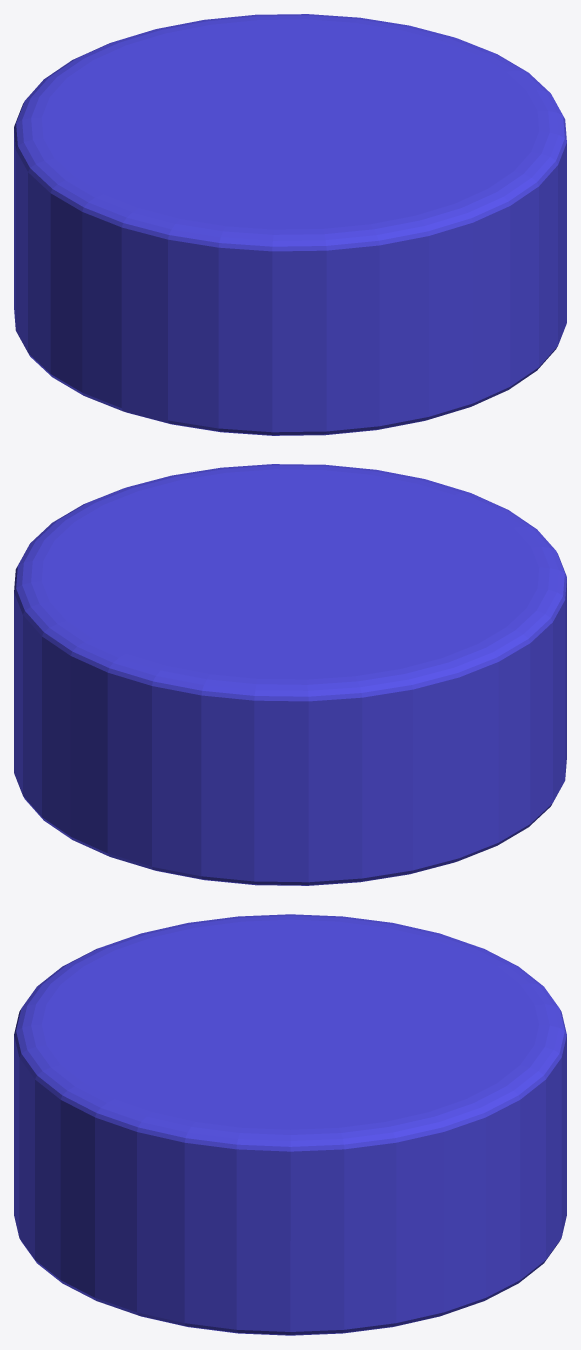
The model's file is blueOrnament.fbx.
3 views of the same model, one above another, from view 1: azimuth 30°, elevation 25°; view 2: azimuth 150°, elevation 25°; view 3: azimuth 270°, elevation 25° (orthographic).
Parts seen in each view (by area): view 1: Cylinder; view 2: Cylinder; view 3: Cylinder.
Boxes of the visible parts, box(x1,y1,x2,y2) form: Cylinder: box(14, 14, 566, 435); Cylinder: box(14, 464, 566, 885); Cylinder: box(14, 914, 566, 1335).
Size of the model in its own units: 200 by 80 by 200.
